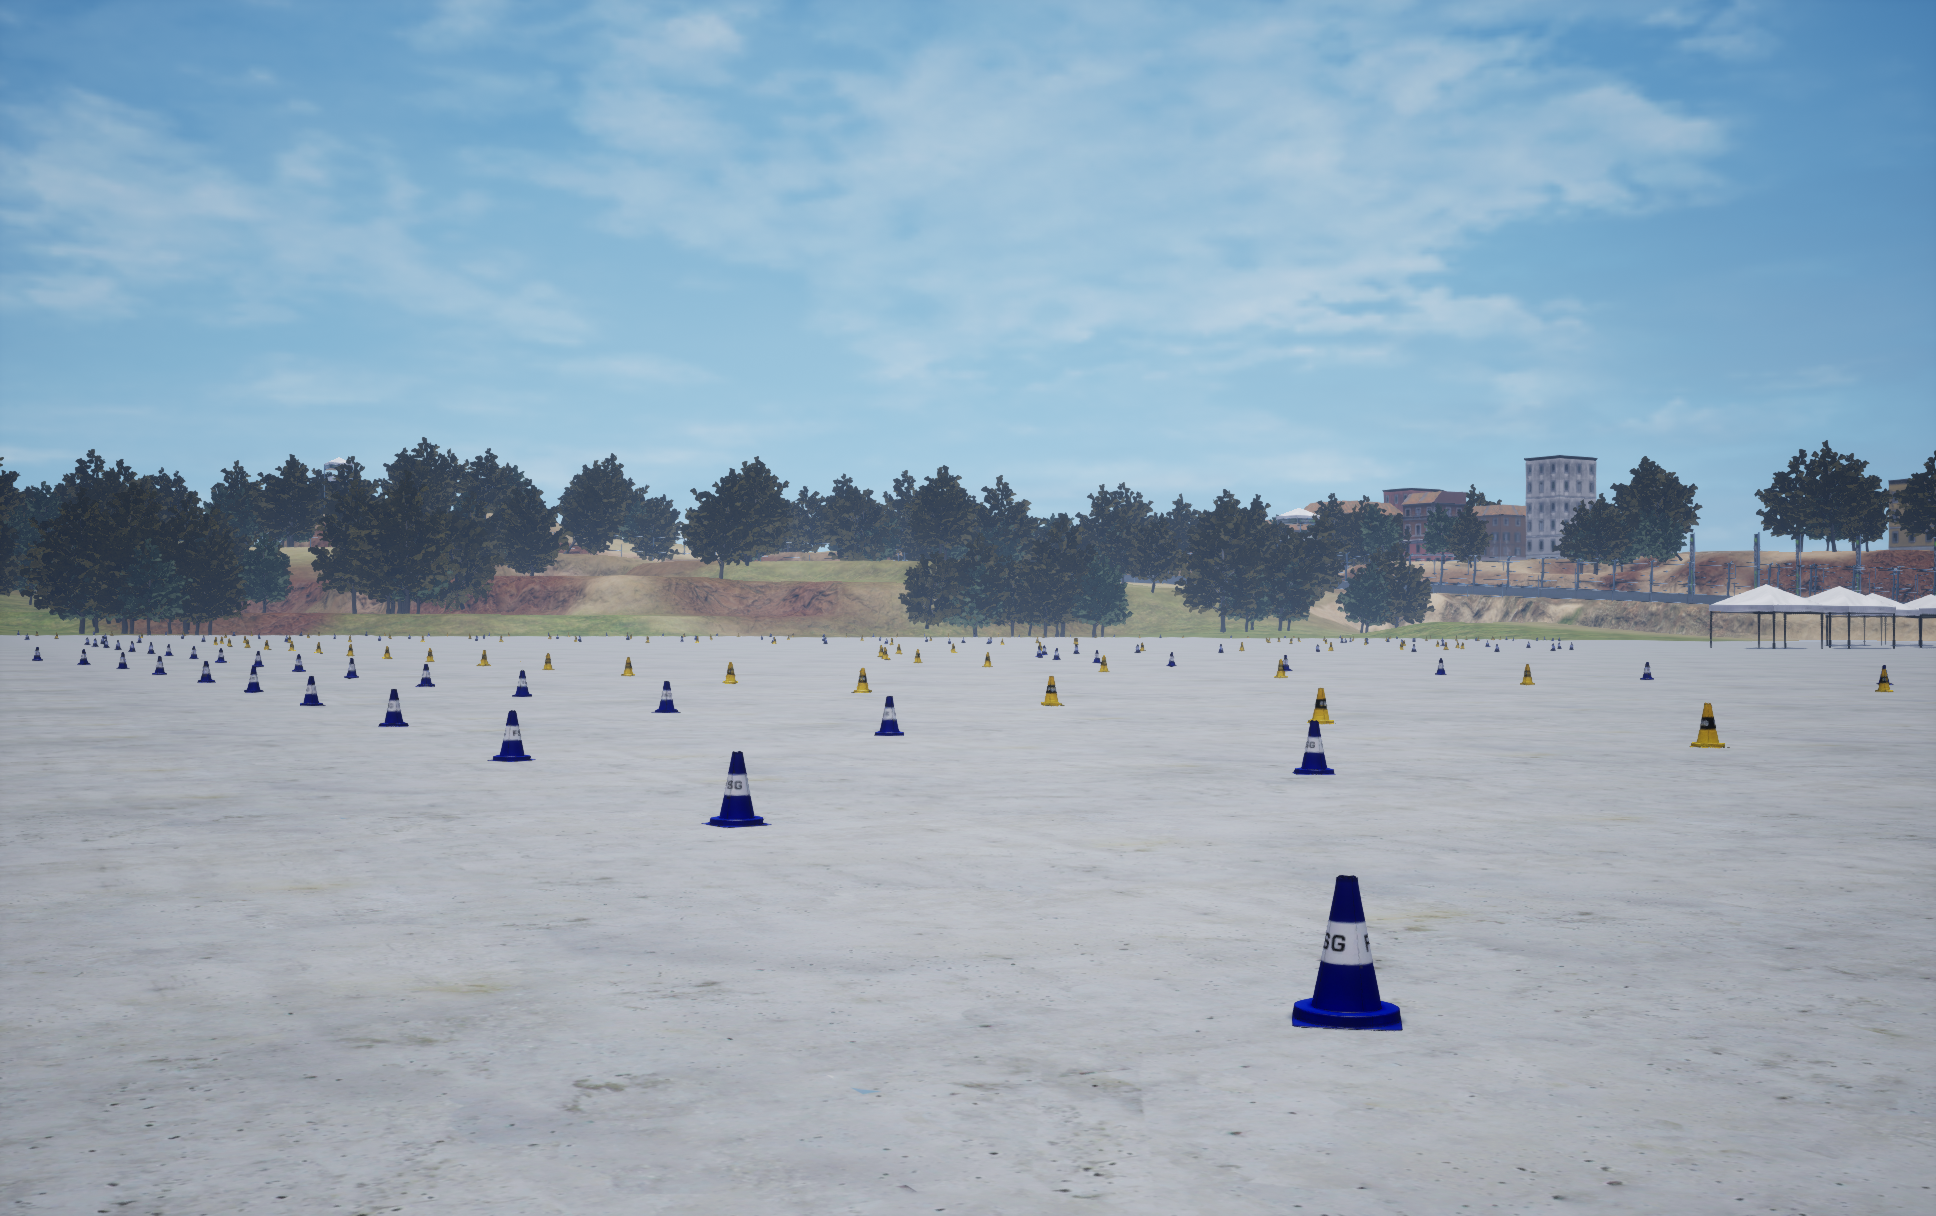blue: (1689, 703, 1729, 747), (1307, 688, 1335, 723), (1041, 677, 1065, 705), (850, 668, 871, 692), (1874, 670, 1893, 691), (721, 663, 737, 684), (1520, 664, 1534, 684), (621, 657, 635, 675), (1273, 658, 1287, 677)
yellow: (1292, 876, 1402, 1030), (700, 751, 770, 827), (488, 710, 535, 761), (1292, 720, 1335, 773), (874, 696, 904, 735), (378, 689, 408, 726), (651, 681, 679, 712), (300, 677, 325, 705), (511, 670, 531, 696), (244, 667, 263, 692), (415, 664, 434, 686), (198, 661, 214, 682), (1876, 665, 1893, 684), (345, 658, 359, 678), (153, 656, 165, 674)
